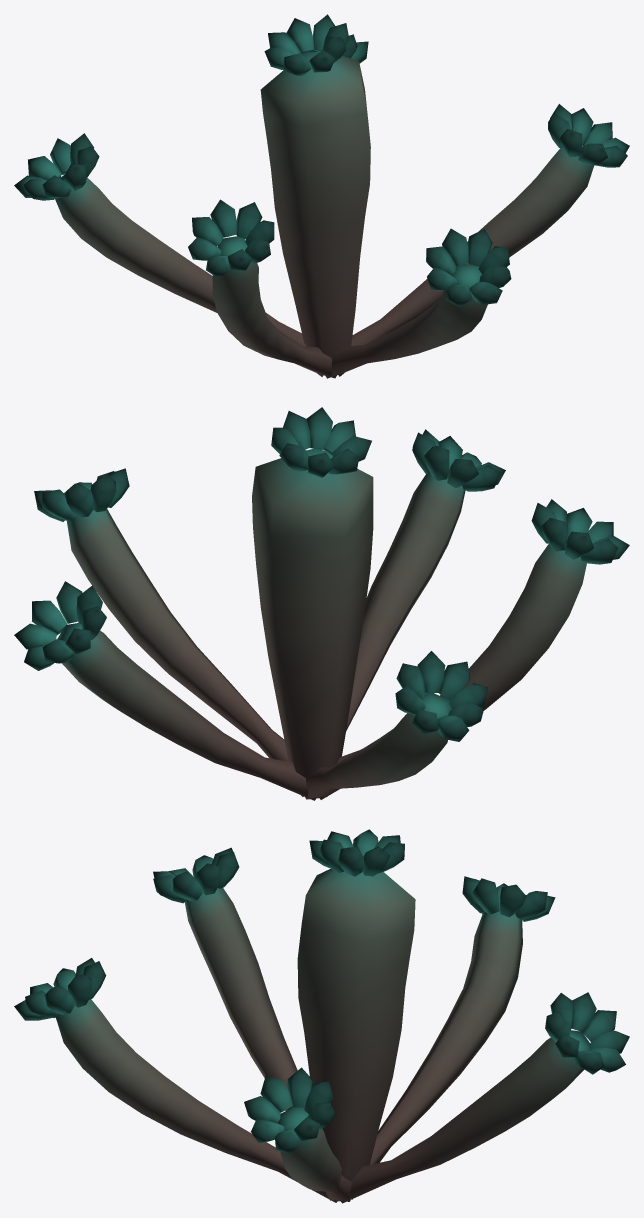
The model's file is plants-cacti-succulents-fan-succulent_v3.glb.
The picture shows the model from 3 angles, top to bottom: view 1: azimuth 30°, elevation 25°; view 2: azimuth 150°, elevation 25°; view 3: azimuth 270°, elevation 25°; orthographic projection. The views are drawn at different scales.
Visible parts, largest first — view 1: Fan Succulent_v3; view 2: Fan Succulent_v3; view 3: Fan Succulent_v3.
Boxes of the visible parts, x1=… form: Fan Succulent_v3: x1=14, y1=14, x2=629, y2=378; Fan Succulent_v3: x1=14, y1=407, x2=629, y2=800; Fan Succulent_v3: x1=14, y1=829, x2=629, y2=1203.
Size of the model in its own units: 0.2961 by 0.194 by 0.3.
